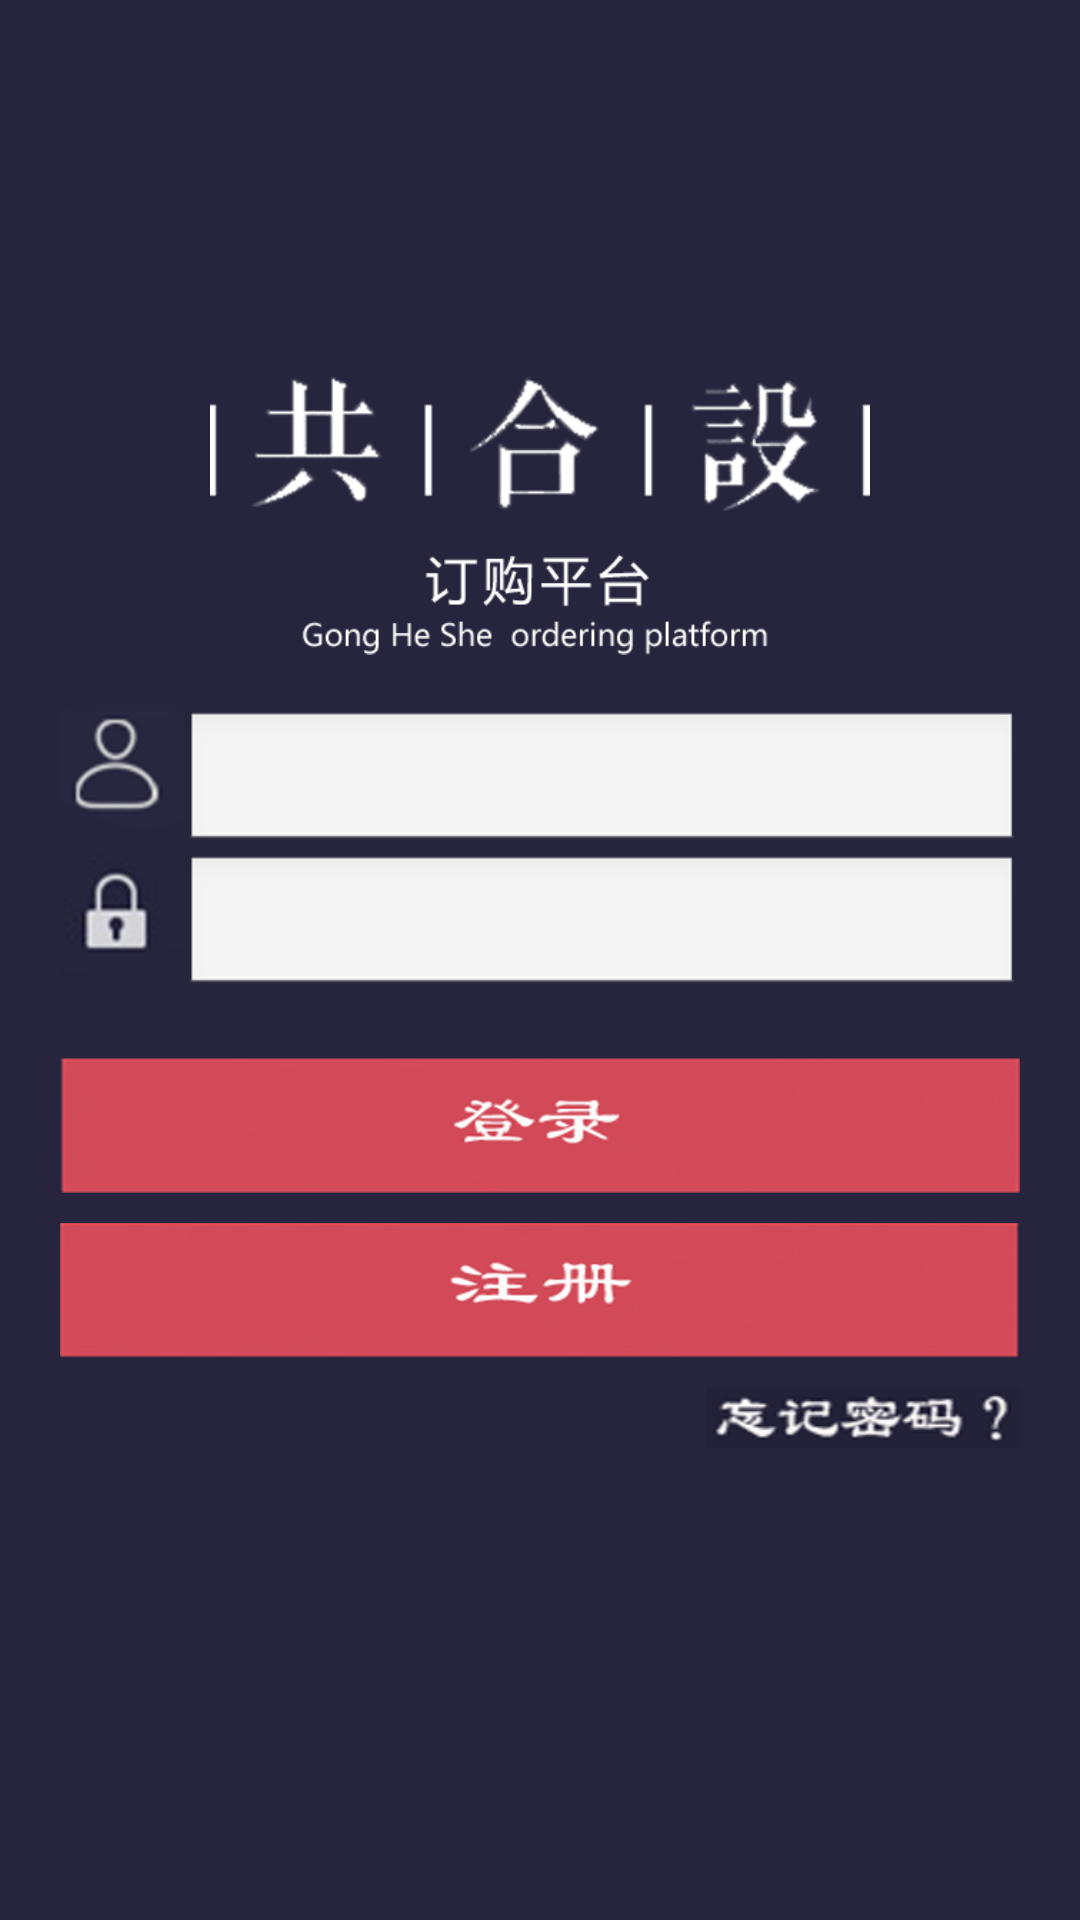

Point at icon controls on the screen. Image size 1080px×1920px, points as (x=x, y=y).
username: (x=117, y=764)
